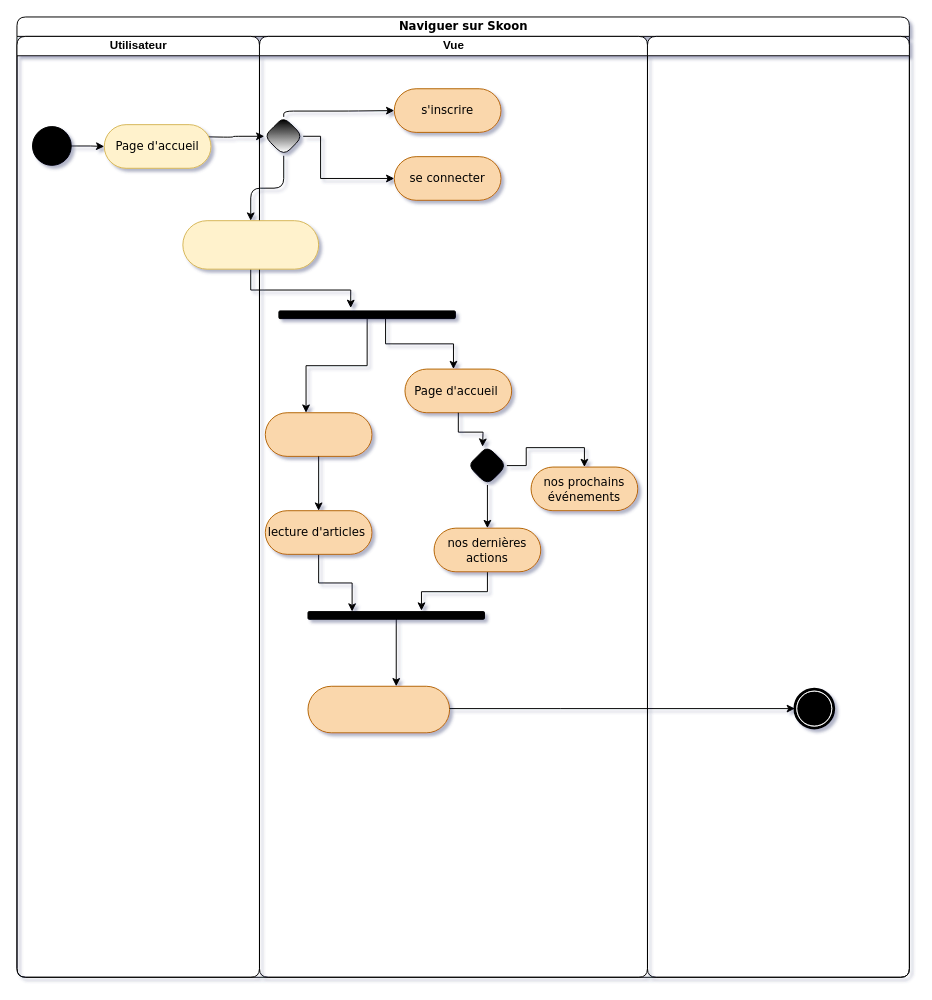
This 932x1000 diagram has some shape labels left out. Each missing label, with the box of its shape:
Blog: (264, 412, 372, 456)
Consulter les dernières News: (182, 220, 319, 269)
J'suis content j'ai appris plein de trucs: (307, 685, 450, 733)
Lane 3: (647, 35, 909, 977)
